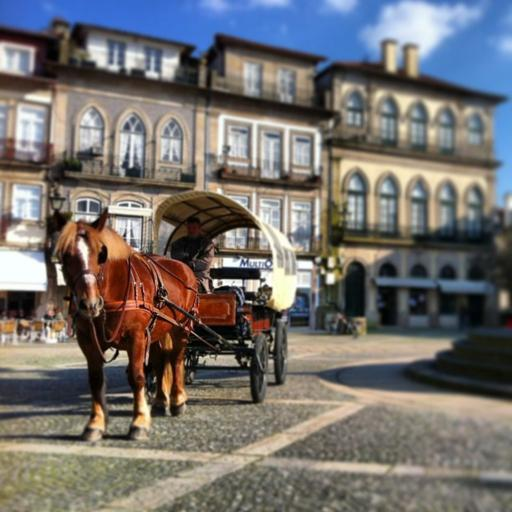horse: (51, 204, 200, 444)
